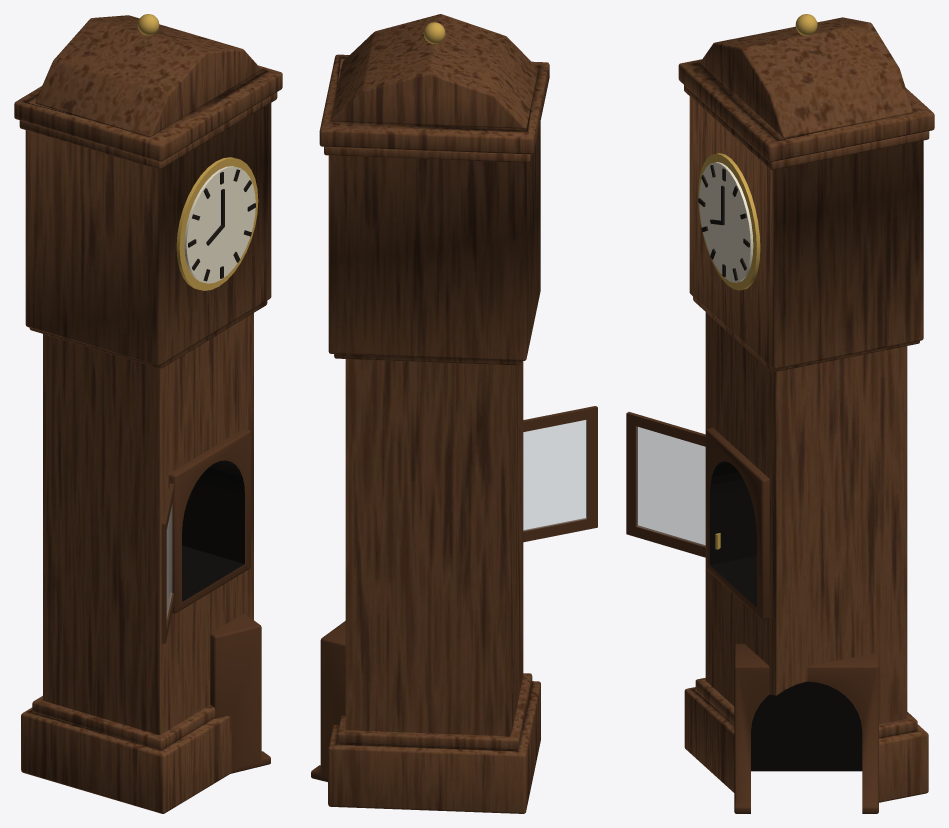
Rendered from grandfather-clock.glb.
3 views of the same model, side by side, from view 1: azimuth 30°, elevation 25°; view 2: azimuth 150°, elevation 25°; view 3: azimuth 270°, elevation 25° (orthographic).
Visible parts, largest first — view 1: case, hole-frame.003, door-frame.007, dial, brass, leaf, hands, leaf-glass; view 2: case, leaf-glass, leaf, door-frame.007; view 3: case, door-frame.007, leaf-glass, hole-frame.003, dial, leaf, brass, hands.
Part boxes in pixels (x1=…): case: x1=14, y1=15, x2=282, y2=813; hole-frame.003: x1=168, y1=428, x2=250, y2=613; door-frame.007: x1=210, y1=613, x2=270, y2=773; dial: x1=184, y1=166, x2=255, y2=283; brass: x1=137, y1=14, x2=258, y2=290; leaf: x1=161, y1=483, x2=174, y2=643; hands: x1=188, y1=169, x2=255, y2=281; leaf-glass: x1=166, y1=504, x2=172, y2=617; case: x1=319, y1=14, x2=549, y2=813; leaf-glass: x1=523, y1=420, x2=587, y2=530; leaf: x1=523, y1=406, x2=597, y2=542; door-frame.007: x1=311, y1=621, x2=345, y2=781; case: x1=678, y1=17, x2=934, y2=802; door-frame.007: x1=734, y1=643, x2=878, y2=813; leaf-glass: x1=636, y1=426, x2=705, y2=546; hole-frame.003: x1=705, y1=428, x2=769, y2=619; dial: x1=699, y1=162, x2=753, y2=282; leaf: x1=626, y1=412, x2=705, y2=557; brass: x1=698, y1=14, x2=817, y2=549; hands: x1=698, y1=165, x2=749, y2=280.
Bounding box in the file's own units: 4.89 × 15 × 5.54.
Materials: 9 (1 with a texture image).
